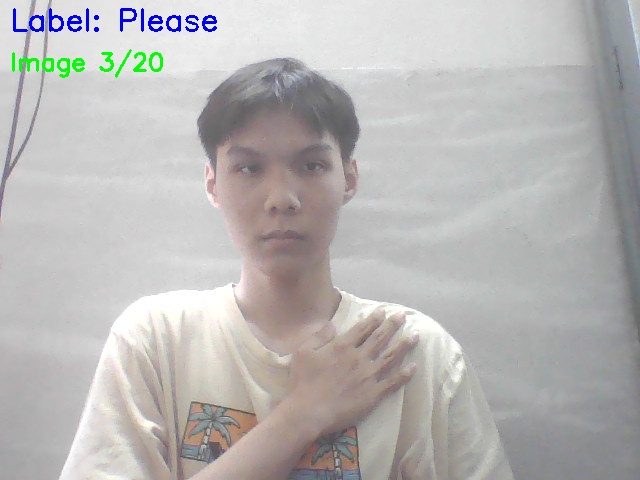Please: (260, 292, 428, 480)
